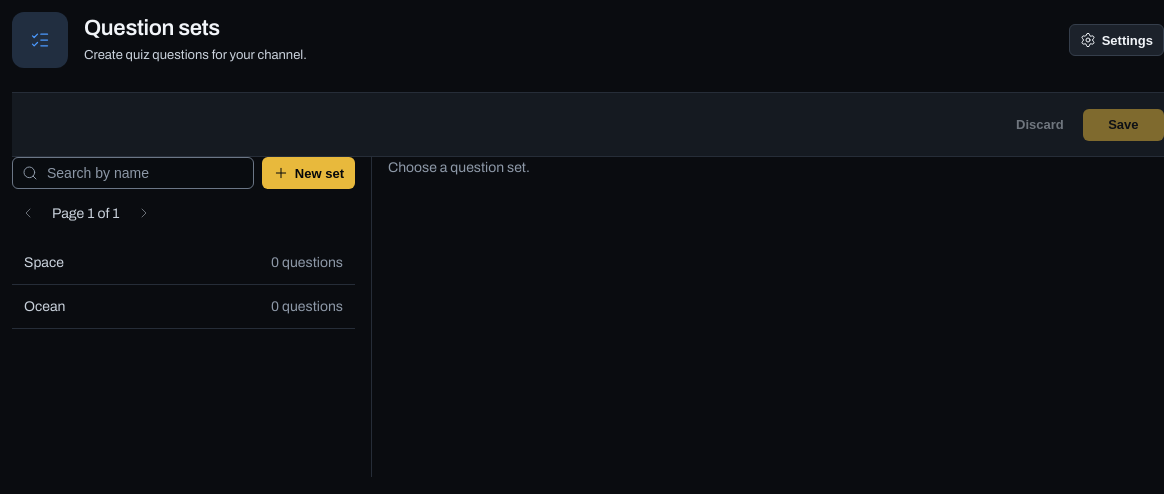
it: quiz set editor › does not let a delayed create replace another set's draft
Click the button "Space 0 questions" at (44, 262), box left=12, top=241, right=355, bottom=285
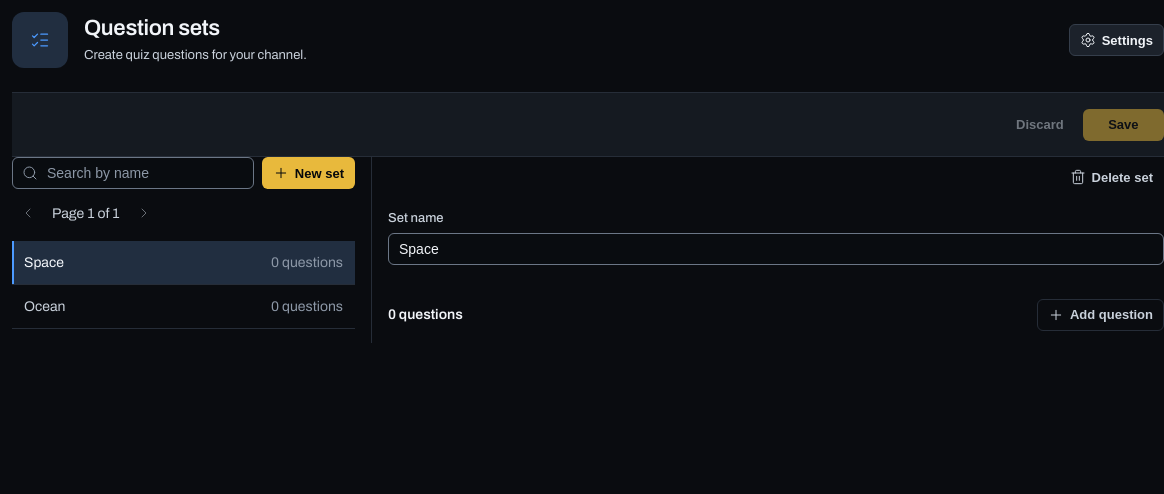
Result: the field labelled "Set name" is shown at left=388, top=232, right=1163, bottom=264
Click the button "New set" at (308, 173), box left=262, top=157, right=355, bottom=189
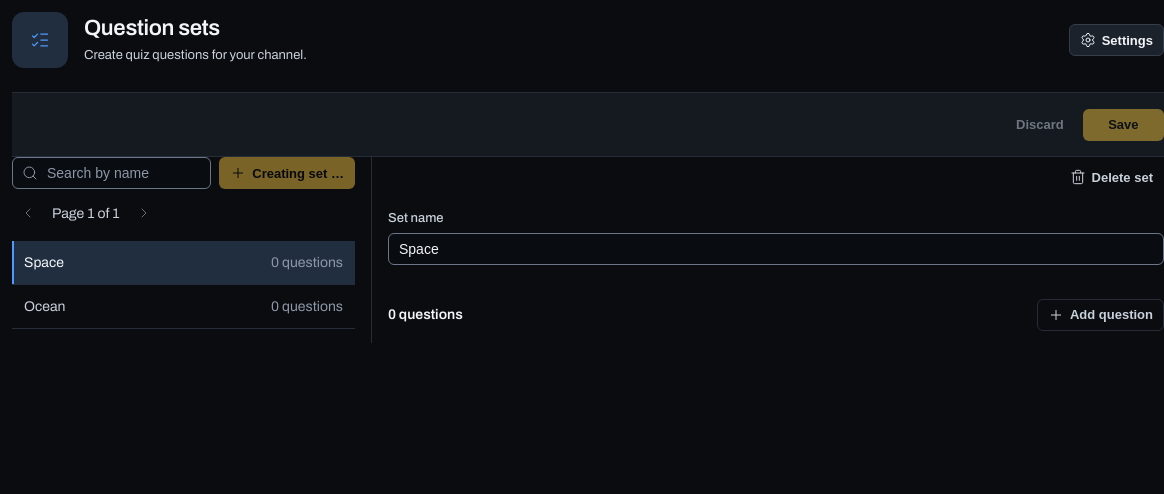
Click the button "Ocean 0 questions" at (45, 306), box left=12, top=285, right=355, bottom=329
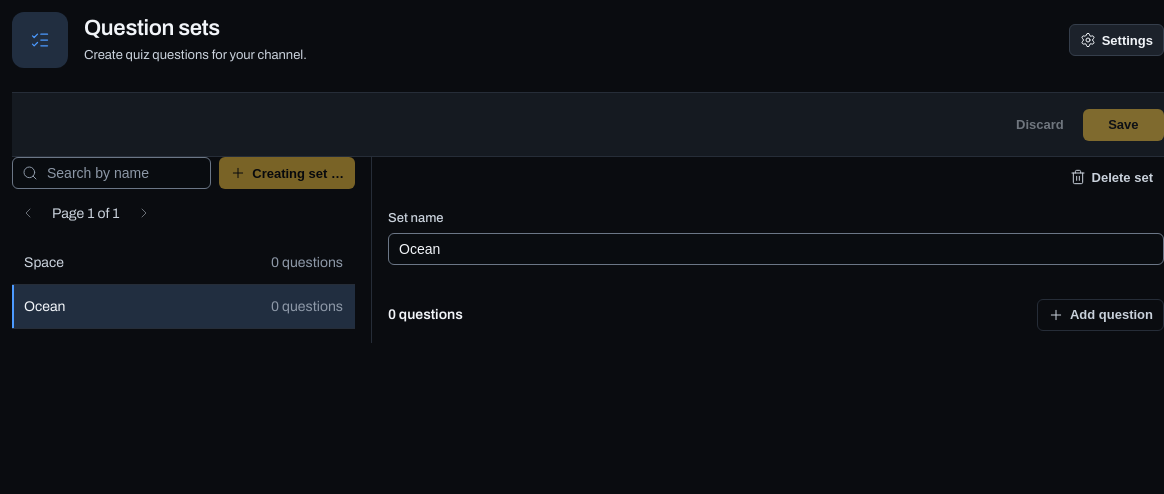
Replace the text in the field labelled "Set name" with "Edited ocean" at (776, 248), box left=388, top=232, right=1163, bottom=264
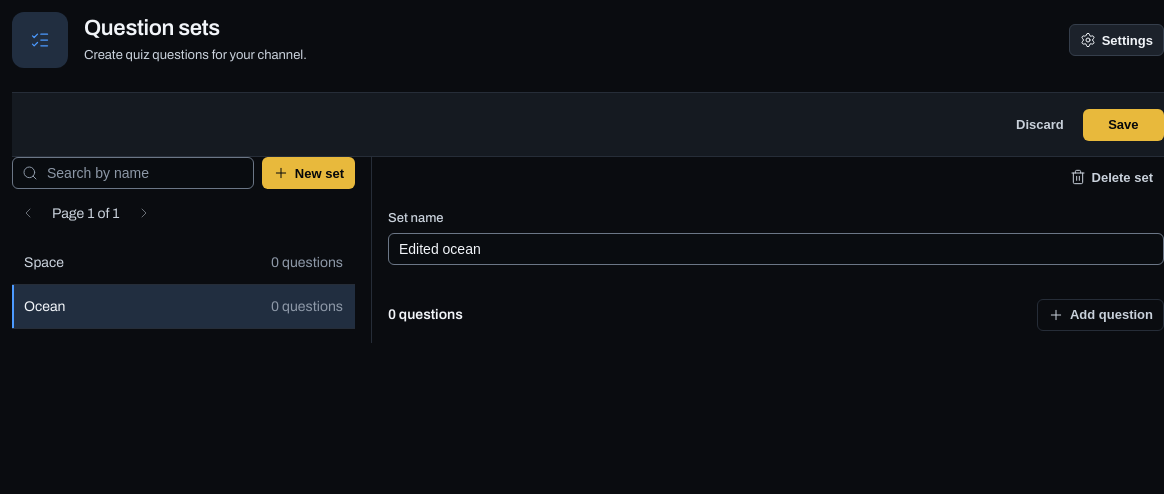
Expected: the button "Ocean 0 questions" is shown, left=12, top=285, right=355, bottom=329
Result: the button "Creating set …" is gone
